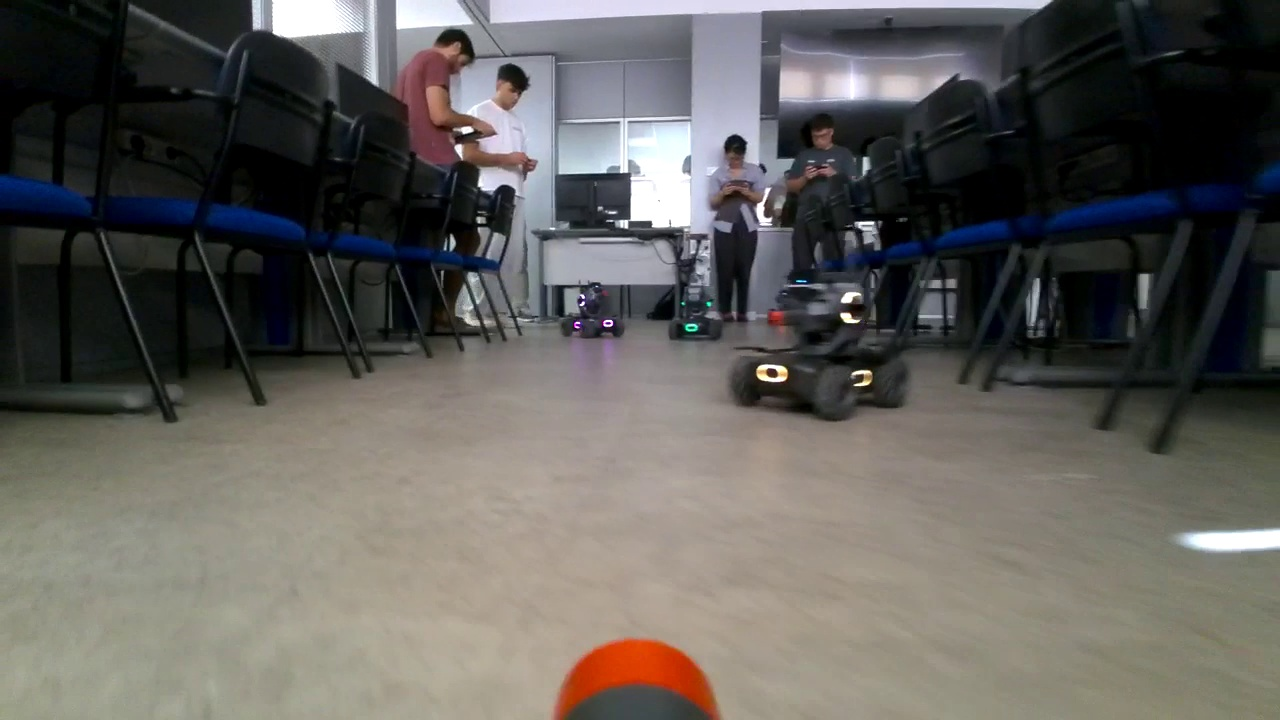robot: (729, 273, 909, 418), (559, 277, 625, 341), (669, 278, 722, 341)
